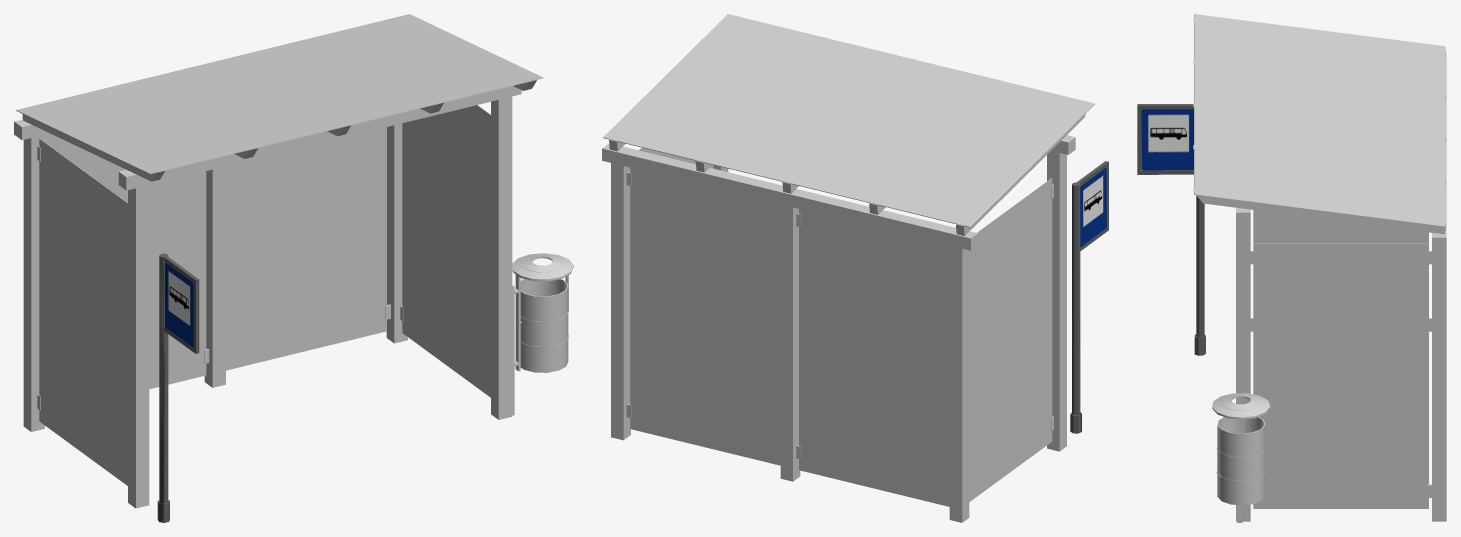
The model's file is Przystanek autobusowy.FBX.
The picture shows the model from 3 angles, left to right: view 1: azimuth 30°, elevation 25°; view 2: azimuth 150°, elevation 25°; view 3: azimuth 270°, elevation 25°; orthographic projection. The views are drawn at different scales.
Parts seen in each view (by area): view 1: Box019, Box011, Box004, Box009, Box012, Box013, Box007, Cylinder001 (×2), Box001, Cylinder002, Cylinder003, Box018; view 2: Box019, Box007, Box011, Box013, Box004, Box012, Cylinder001, Box001; view 3: Box019, Box009, Cylinder001 (×2), Box013, Box004, Box001, Box012, Box014, Cylinder002, Cylinder003.
Boxes of the visible parts, x1=… form: Box019: x1=16, y1=14, x2=543, y2=174; Box011: x1=226, y1=127, x2=386, y2=370; Box004: x1=39, y1=138, x2=127, y2=485; Box009: x1=402, y1=105, x2=490, y2=397; Box012: x1=118, y1=86, x2=521, y2=508; Box013: x1=14, y1=119, x2=407, y2=431; Box007: x1=45, y1=133, x2=206, y2=389; Cylinder001 (×2): x1=157, y1=253, x2=568, y2=522; Box001: x1=164, y1=262, x2=193, y2=347; Cylinder002: x1=512, y1=253, x2=573, y2=280; Cylinder003: x1=512, y1=272, x2=570, y2=415; Box018: x1=22, y1=114, x2=164, y2=181; Box019: x1=603, y1=14, x2=1094, y2=227; Box007: x1=799, y1=209, x2=949, y2=506; Box011: x1=630, y1=167, x2=780, y2=465; Box013: x1=602, y1=143, x2=978, y2=522; Box004: x1=969, y1=178, x2=1052, y2=501; Box012: x1=713, y1=135, x2=1075, y2=451; Cylinder001: x1=1070, y1=161, x2=1108, y2=433; Box001: x1=1080, y1=167, x2=1106, y2=247; Box019: x1=1194, y1=14, x2=1445, y2=227; Box009: x1=1253, y1=243, x2=1428, y2=508; Cylinder001 (×2): x1=1137, y1=104, x2=1265, y2=505; Box013: x1=1426, y1=56, x2=1446, y2=521; Box004: x1=1253, y1=210, x2=1428, y2=243; Box001: x1=1141, y1=109, x2=1193, y2=170; Box012: x1=1236, y1=207, x2=1255, y2=521; Box014: x1=1193, y1=187, x2=1446, y2=234; Cylinder002: x1=1212, y1=393, x2=1270, y2=418; Cylinder003: x1=1212, y1=397, x2=1269, y2=522.
Size of the model in its own units: 3303 by 2499 by 2113.
